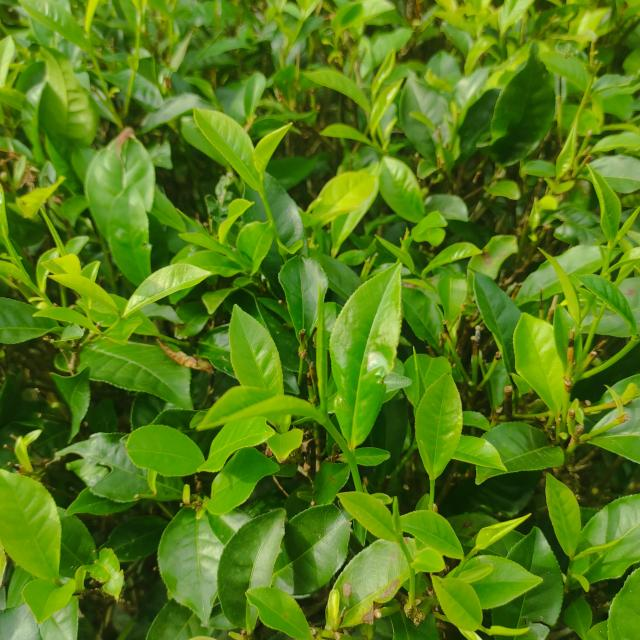unopened_leaf: (310, 278, 336, 427), (566, 520, 640, 567), (36, 201, 71, 257), (610, 200, 640, 249), (479, 623, 534, 640), (387, 490, 404, 540)
